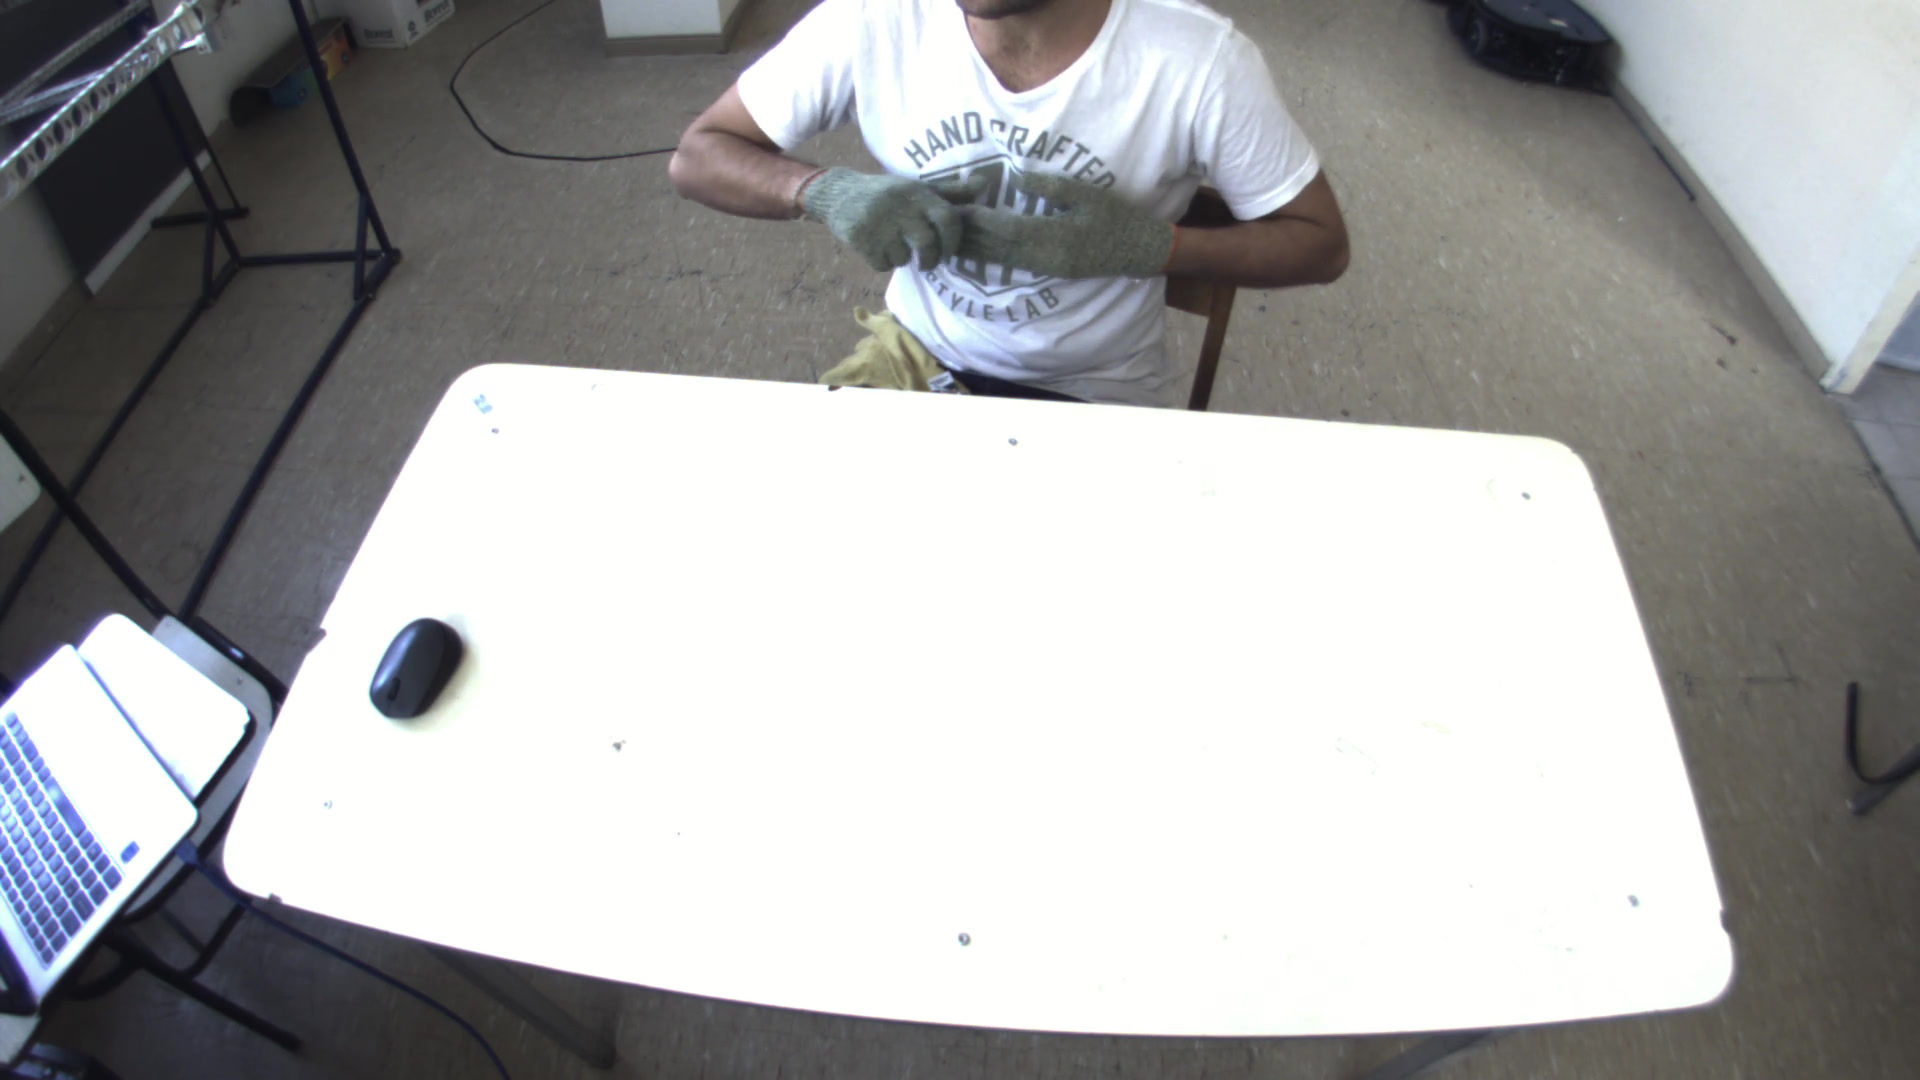hand: (942, 148, 1183, 291), (796, 156, 967, 266)
